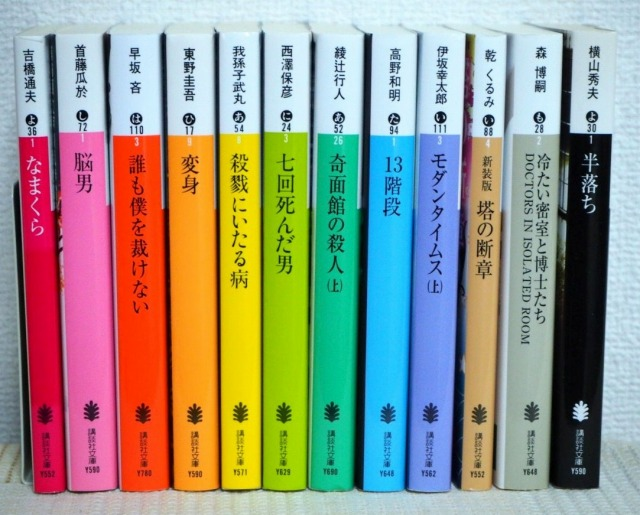book: (52, 25, 121, 494), (105, 25, 165, 493), (163, 25, 222, 492), (11, 28, 69, 496), (505, 25, 562, 487), (409, 23, 464, 496), (362, 28, 418, 490), (556, 19, 610, 489), (310, 27, 365, 486), (260, 25, 311, 494), (214, 29, 263, 491), (460, 28, 507, 495)
